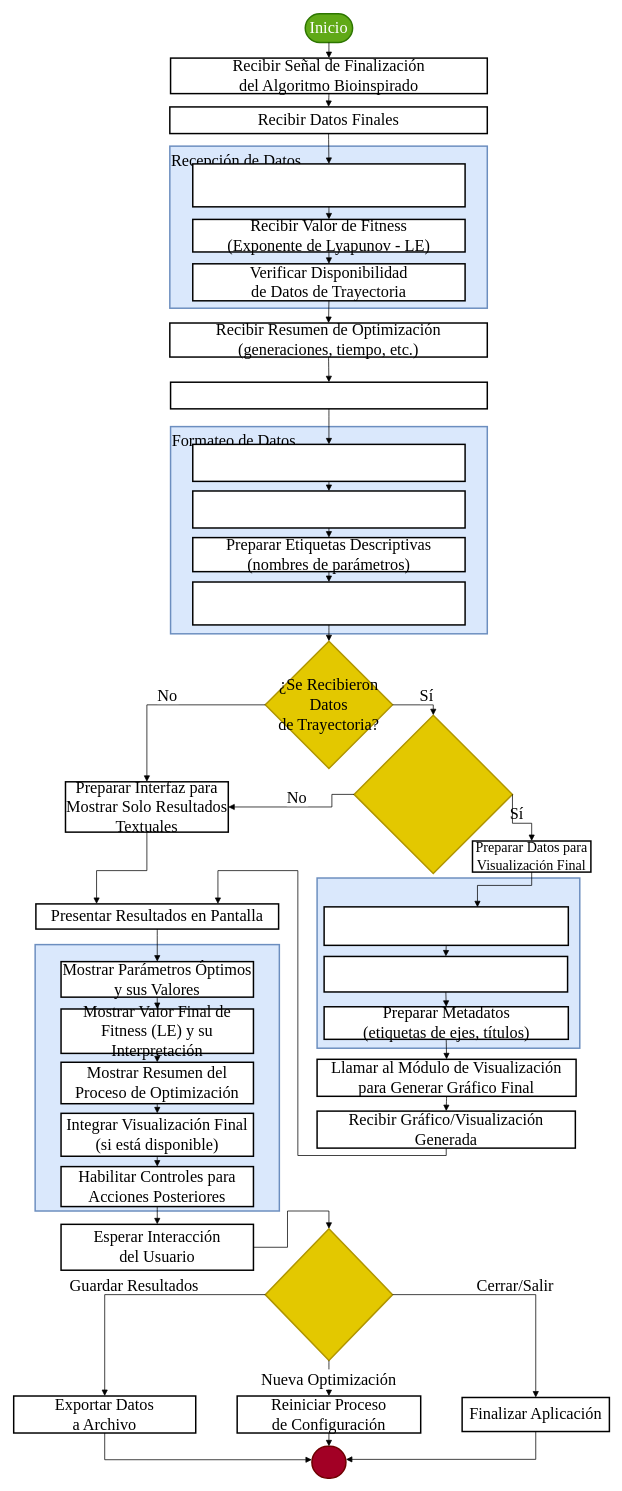
The diagram is 622 pixels wide and 1491 high, and some of its shapes have lost their labels. Here are the shapes that lost their labels. From the top down, the box of each, then its label:
(192, 163, 465, 207): Recibir Parámetros Óptimos (masas finales, etc.)
(169, 381, 488, 409): Formatear Datos para Presentación
(192, 443, 465, 482): Convertir Parámetros Óptimos a formato legible
(192, 490, 465, 528): Formatear Valor de Fitness (LE con decimales apropiados)
(192, 581, 465, 625): Formatear Resumen de Optimización (texto descriptivo del proceso)
(353, 714, 513, 874): ¿La Configuración Indica Mostrar Visualización Final?
(323, 906, 569, 946): Extraer Posiciones y Velocidades para Puntos de Tiempo Relevantes
(323, 955, 568, 992): Determinar Escala y Límites para la Visualización
(316, 877, 580, 1049): Preparación de Visualización
(34, 944, 280, 1211): Actualización de UI
(264, 1228, 393, 1361): ¿Usuario Solicita Acción Adicional?
(311, 1445, 346, 1479): Fin
